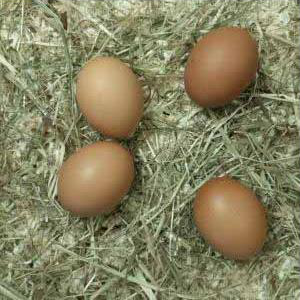egg: (193, 178, 268, 262), (184, 26, 258, 108), (57, 141, 135, 216), (75, 56, 144, 140)
